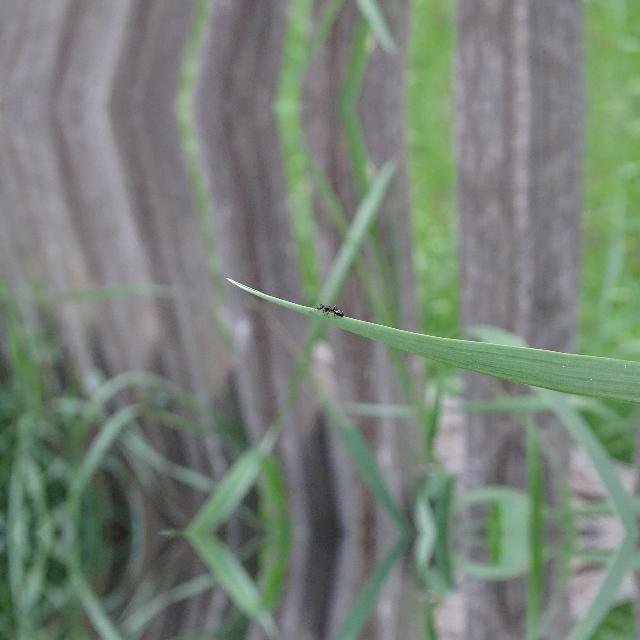Dolichoderus: (310, 298, 348, 318)
